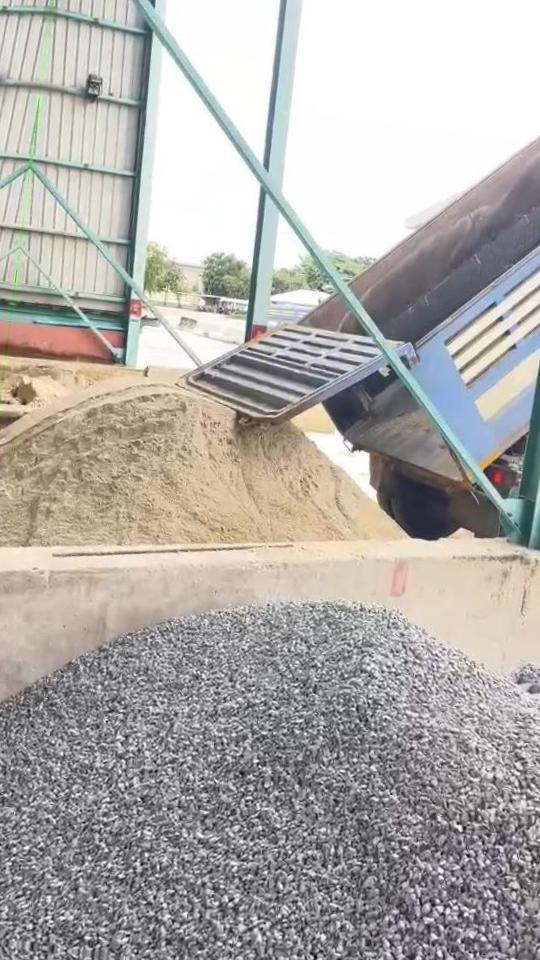gravel: (0, 603, 540, 960), (516, 664, 540, 705)
sand: (0, 378, 401, 546), (3, 363, 94, 407)
